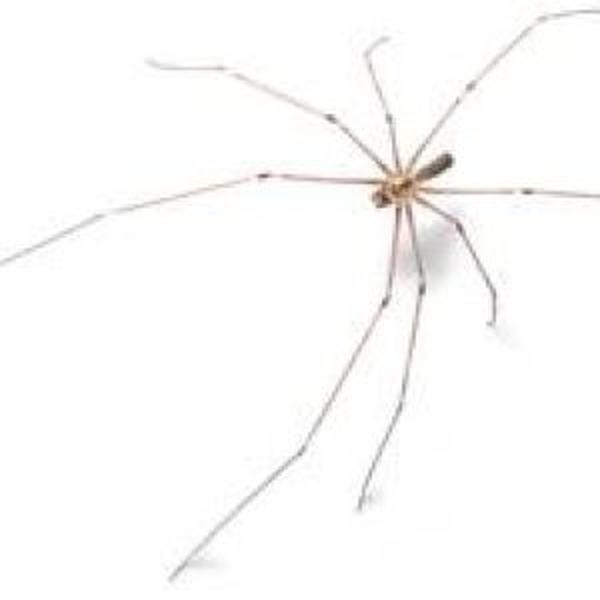Daddy Long Legs Spider: (20, 17, 582, 566)
